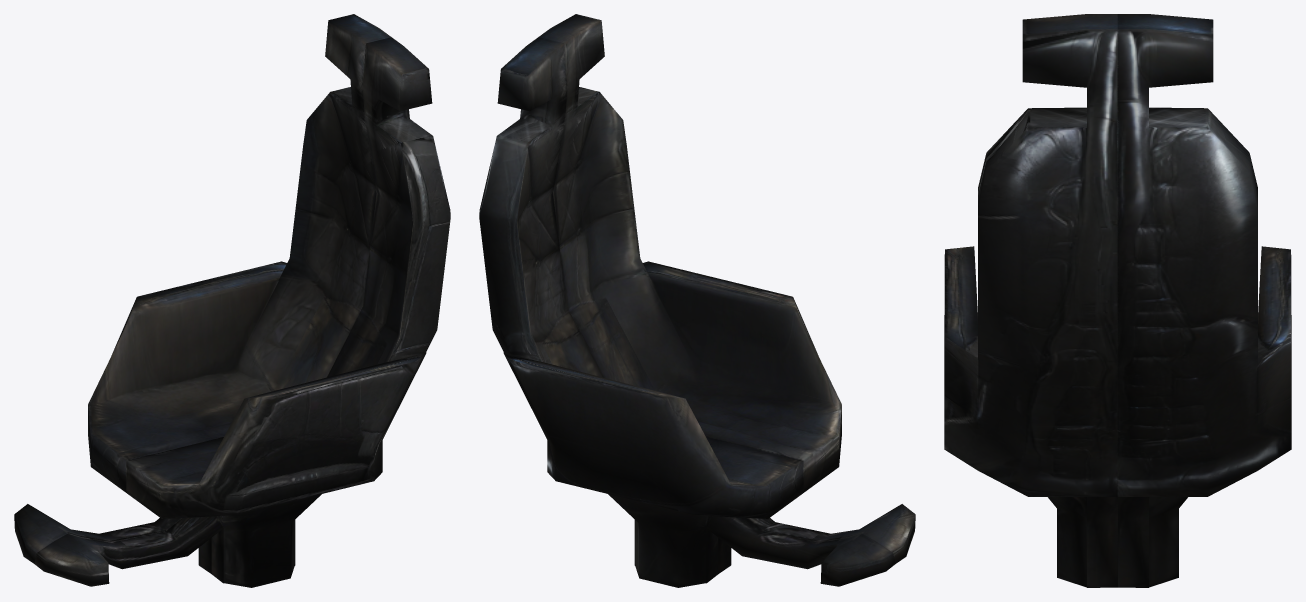
Rendered from _0609221432_texture.fbx.
The picture shows the model from 3 angles, left to right: view 1: azimuth 30°, elevation 25°; view 2: azimuth 150°, elevation 25°; view 3: azimuth 270°, elevation 25°; orthographic projection. The views are drawn at different scales.
Visible parts, largest first — view 1: pCube10; view 2: pCube10; view 3: pCube10.
Boxes of the visible parts, x1,y1,x2,y2 form: pCube10: (14, 14, 450, 587); pCube10: (479, 14, 915, 587); pCube10: (944, 14, 1291, 587).
Bounding box in the file's own units: 162 × 200 × 101.
Materials: 1 (1 with a texture image).
